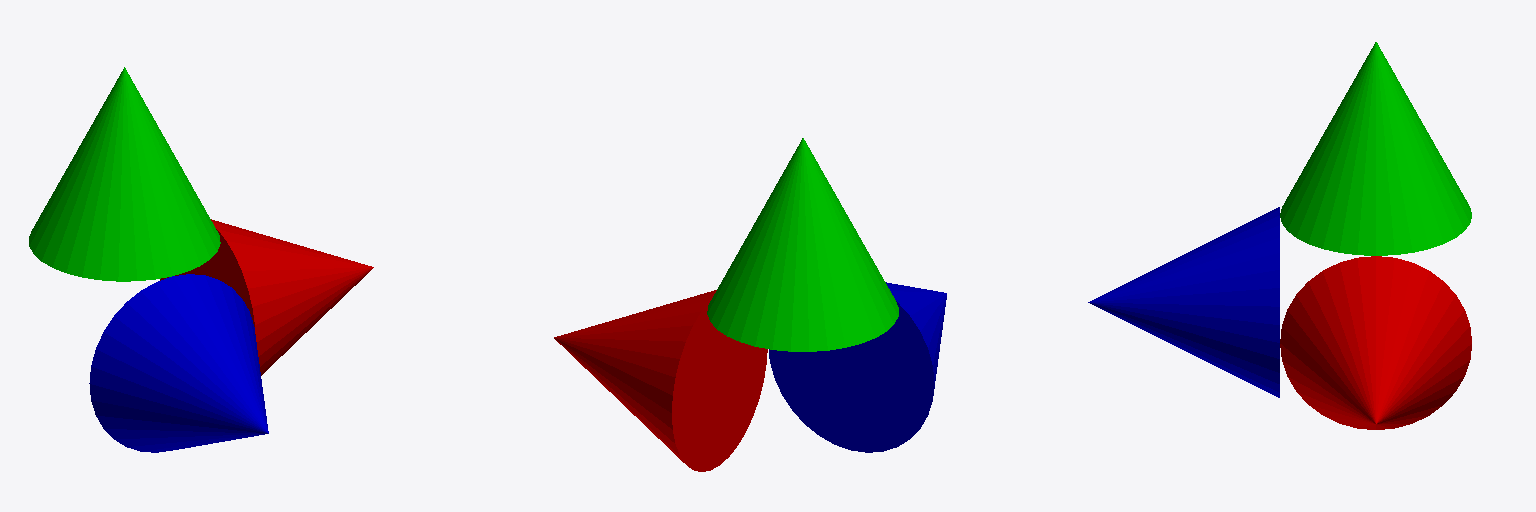
File: axis.obj
3 views of the same model, side by side, from view 1: azimuth 30°, elevation 25°; view 2: azimuth 150°, elevation 25°; view 3: azimuth 270°, elevation 25° (orthographic).
Visible parts, largest first — view 1: cone_z, cone_y, cone_x; view 2: cone_y, cone_x, cone_z; view 3: cone_x, cone_y, cone_z.
Part boxes in pixels (x1,y1,x2,y2): cone_z: (89,274,268,452); cone_y: (29,67,220,281); cone_x: (160,219,373,375); cone_y: (707,138,898,351); cone_x: (554,290,767,471); cone_z: (769,282,946,452); cone_x: (1280,256,1471,429); cone_y: (1280,42,1471,255); cone_z: (1088,207,1279,397).
Bounding box in the file's own units: 4 × 4 × 4.